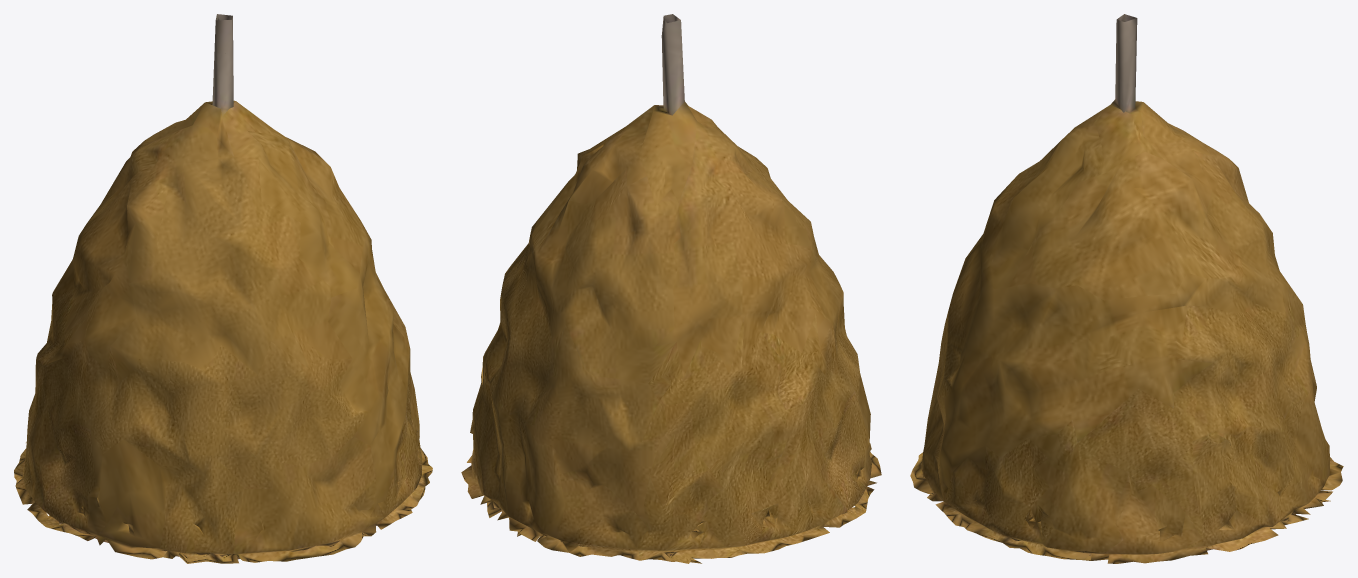
Rendered from prop_haystack.glb.
The picture shows the model from 3 angles, left to right: view 1: azimuth 30°, elevation 25°; view 2: azimuth 150°, elevation 25°; view 3: azimuth 270°, elevation 25°; orthographic projection.
Parts seen in each view (by area): view 1: tripo_node_e4577dc4-c900-45ee-a44c-5f47f6f43e31; view 2: tripo_node_e4577dc4-c900-45ee-a44c-5f47f6f43e31; view 3: tripo_node_e4577dc4-c900-45ee-a44c-5f47f6f43e31.
Part boxes in pixels (x1,y1,x2,y2): tripo_node_e4577dc4-c900-45ee-a44c-5f47f6f43e31: [14, 14, 432, 563]; tripo_node_e4577dc4-c900-45ee-a44c-5f47f6f43e31: [461, 14, 881, 563]; tripo_node_e4577dc4-c900-45ee-a44c-5f47f6f43e31: [910, 14, 1343, 563].
Size of the model in its own units: 0.8308 by 1 by 0.8433.
Materials: 1 (1 with a texture image).
